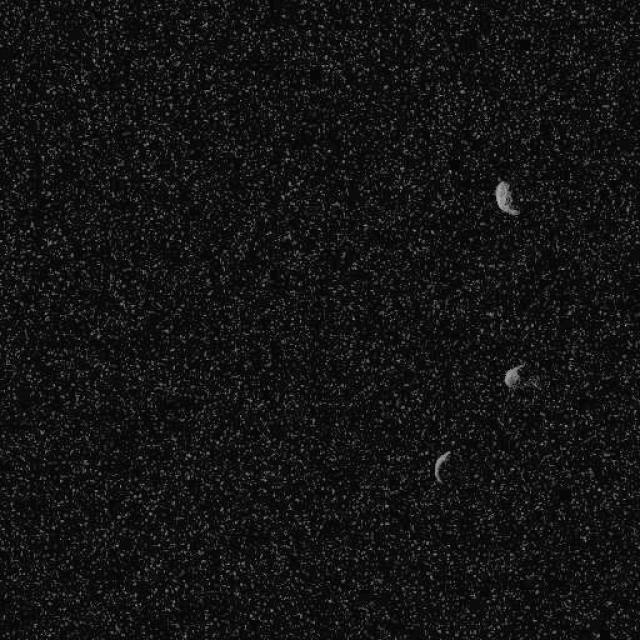D2: (494, 179, 518, 216), (432, 448, 450, 484), (503, 362, 525, 388)
